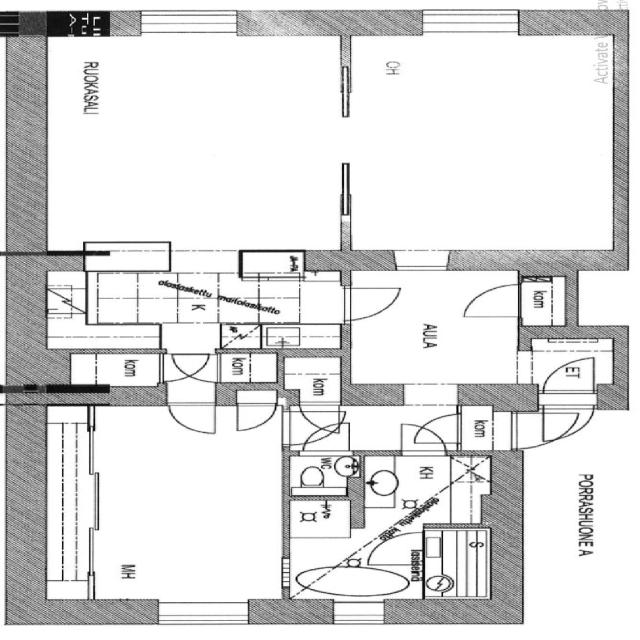door: (538, 357, 600, 407), (456, 280, 527, 321), (338, 282, 405, 322), (534, 404, 593, 447), (398, 413, 461, 453), (162, 348, 217, 385), (361, 536, 423, 568), (167, 400, 220, 436), (232, 396, 280, 434), (298, 403, 347, 439), (299, 420, 351, 450)
window: (131, 6, 243, 43), (416, 5, 526, 42), (153, 604, 254, 627), (388, 248, 456, 276), (334, 159, 359, 218), (82, 428, 104, 477), (82, 526, 104, 574), (331, 618, 387, 628), (27, 383, 52, 393)
zone: (36, 29, 350, 249), (350, 30, 630, 251), (37, 260, 350, 346), (343, 269, 525, 392), (357, 455, 495, 529), (420, 529, 497, 601), (65, 351, 163, 390), (286, 454, 359, 497), (281, 354, 343, 404), (518, 273, 572, 330), (286, 497, 356, 539), (456, 404, 506, 454)
